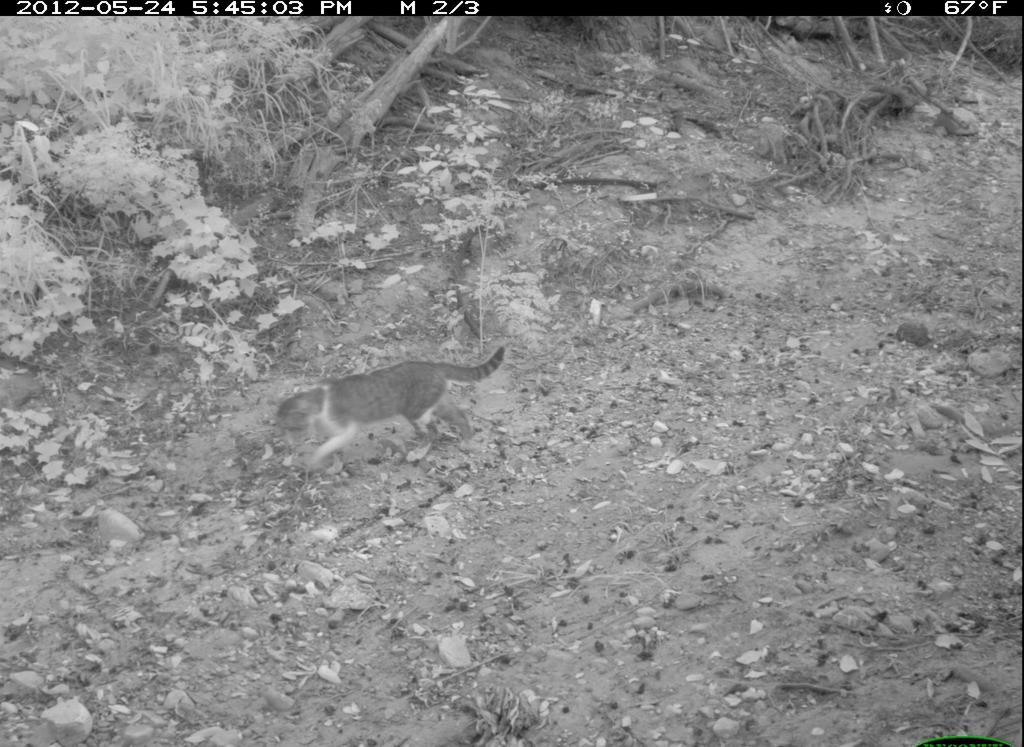cat: (227, 336, 536, 501)
